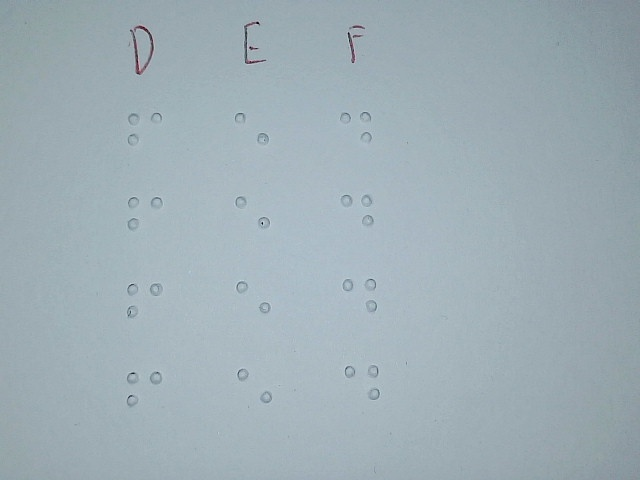D: (337, 100, 376, 166), (337, 180, 376, 246), (340, 268, 379, 334), (342, 354, 381, 420)
E: (230, 100, 274, 174), (231, 185, 275, 259), (231, 270, 275, 344), (232, 359, 276, 433)
F: (123, 186, 167, 255), (123, 101, 167, 170), (122, 271, 166, 340), (123, 359, 167, 428)
